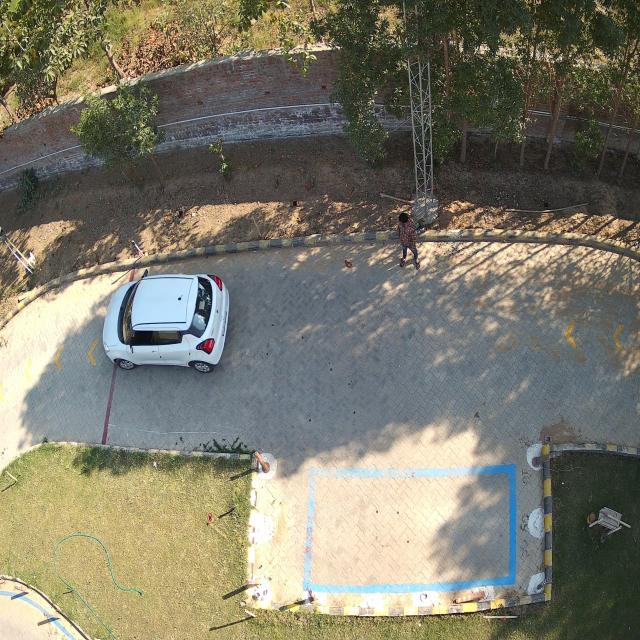car: (103, 274, 230, 374)
